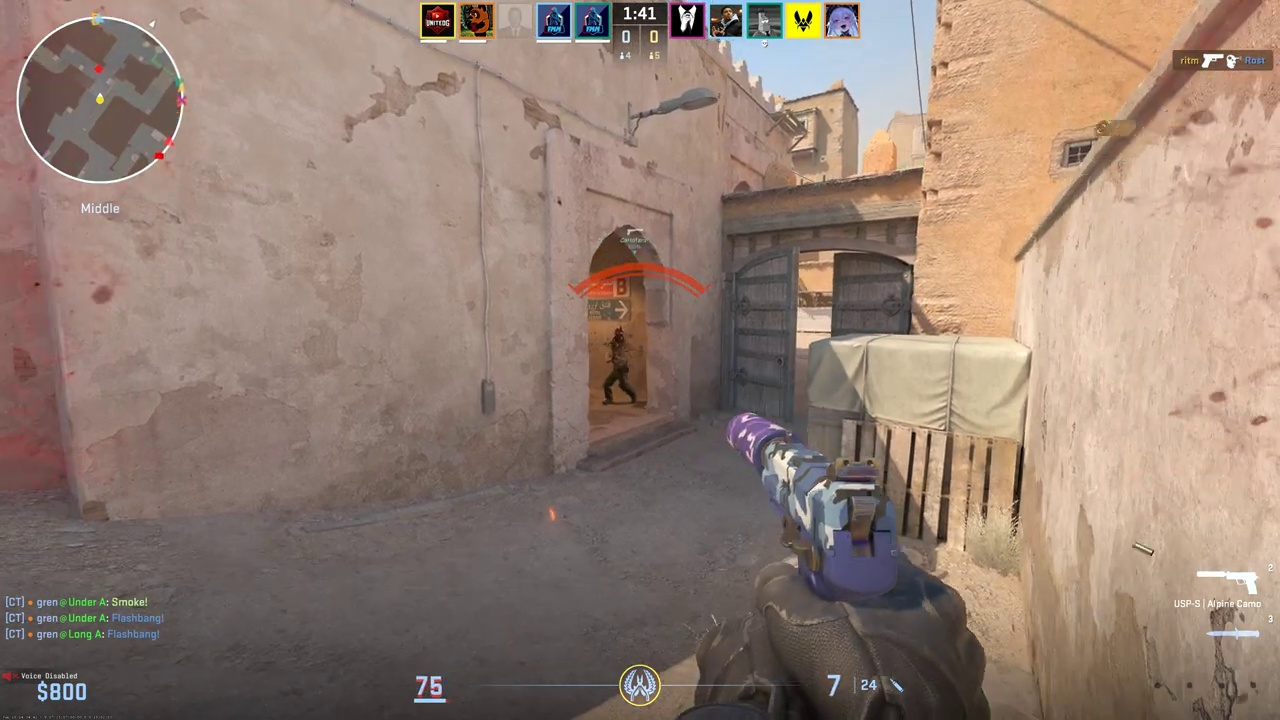Terrorist: (602, 328, 636, 404)
